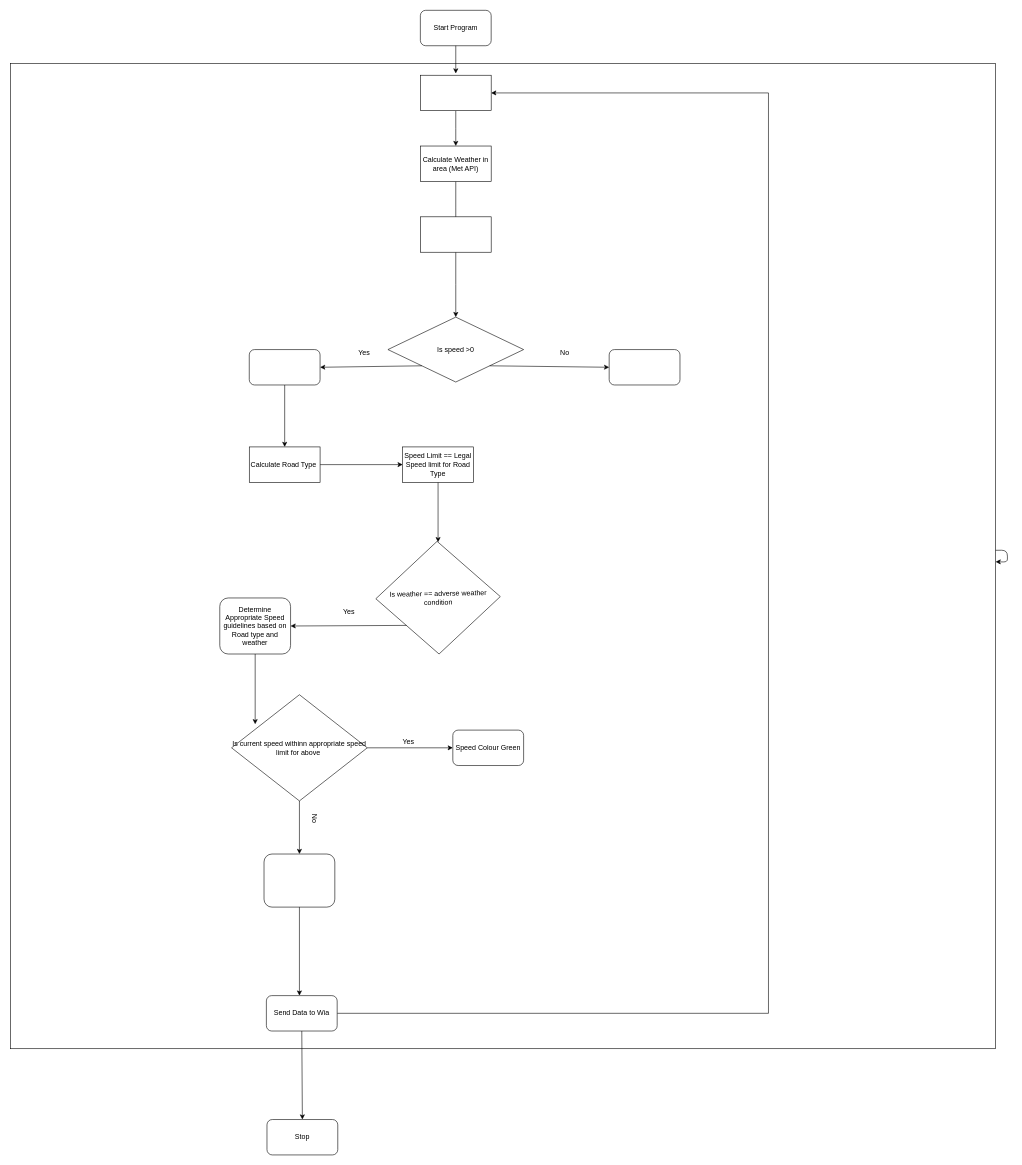
The diagram is 1022 pixels wide and 1165 high, and some of its shapes have lost their labels. Each missing label, with the centre of its shape:
Calculate Speed (based on distance travelled over time): the point at 455,234
Determine Location (Blynk): the point at 455,93
Display 0: the point at 644,367
Display Speed: the point at 284,367
Display Speed in Orange or Red (depending on range outside approriate speed): the point at 299,880
